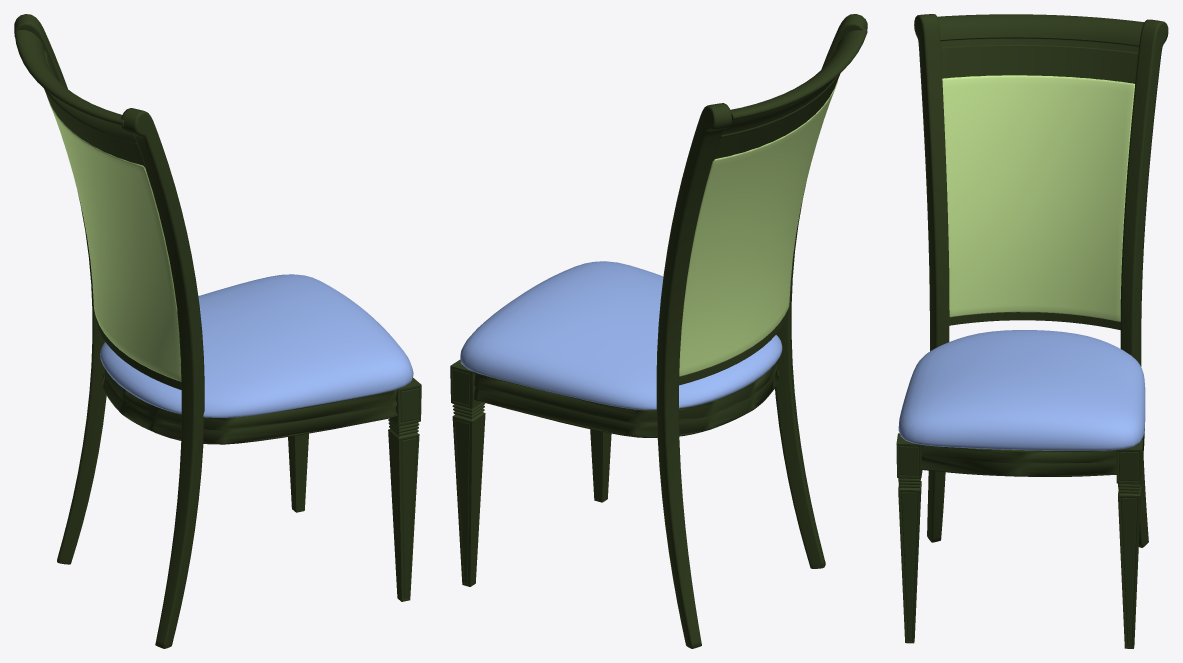
The model's file is SM_Chair.FBX.
3 views of the same model, side by side, from view 1: azimuth 30°, elevation 25°; view 2: azimuth 150°, elevation 25°; view 3: azimuth 270°, elevation 25° (orthographic). The views are drawn at different scales.
Parts seen in each view (by area): view 1: Plane03, Box02, Box01, Line03, Box05, Box04, Line01, Box06, Box03; view 2: Plane03, Box02, Box04, Line03, Line01, Box06, Box01, Box05, Box03; view 3: Box02, Plane03, Line01, Box01, Box04, Line03, Box06, Box05, Box03.
Part boxes in pixels (x1=…): Plane03: x1=100, y1=274, x2=413, y2=417; Box02: x1=47, y1=96, x2=181, y2=381; Box01: x1=121, y1=108, x2=204, y2=648; Line03: x1=102, y1=367, x2=397, y2=444; Box05: x1=388, y1=377, x2=421, y2=601; Box04: x1=14, y1=14, x2=106, y2=564; Line01: x1=14, y1=30, x2=145, y2=167; Box06: x1=288, y1=433, x2=308, y2=512; Box03: x1=95, y1=315, x2=181, y2=389; Plane03: x1=460, y1=261, x2=782, y2=409; Box02: x1=679, y1=81, x2=837, y2=376; Box04: x1=656, y1=103, x2=731, y2=648; Line03: x1=473, y1=361, x2=779, y2=437; Line01: x1=713, y1=28, x2=867, y2=160; Box06: x1=450, y1=360, x2=485, y2=586; Box01: x1=775, y1=14, x2=867, y2=568; Box05: x1=590, y1=429, x2=611, y2=502; Box03: x1=679, y1=310, x2=787, y2=385; Box02: x1=942, y1=75, x2=1134, y2=321; Plane03: x1=898, y1=330, x2=1145, y2=450; Line01: x1=937, y1=14, x2=1143, y2=84; Box01: x1=914, y1=14, x2=949, y2=542; Box04: x1=1120, y1=19, x2=1168, y2=547; Line03: x1=921, y1=429, x2=1144, y2=476; Box06: x1=1116, y1=439, x2=1142, y2=648; Box05: x1=896, y1=433, x2=922, y2=643; Box03: x1=949, y1=312, x2=1120, y2=329.
Size of the model in its own units: 219 by 361 by 174.
